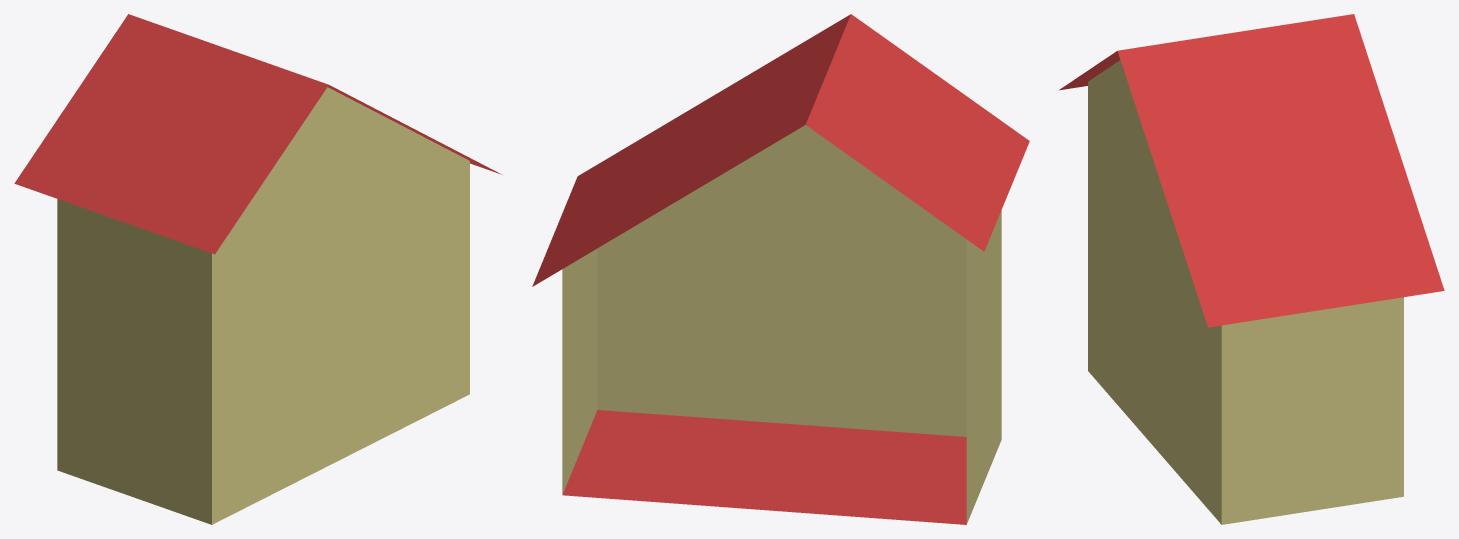
3 views of the same model, side by side, from view 1: azimuth 30°, elevation 25°; view 2: azimuth 150°, elevation 25°; view 3: azimuth 270°, elevation 25° (orthographic). The views are drawn at different scales.
Size of the model in its own units: 16.09 by 12.56 by 13.73.
